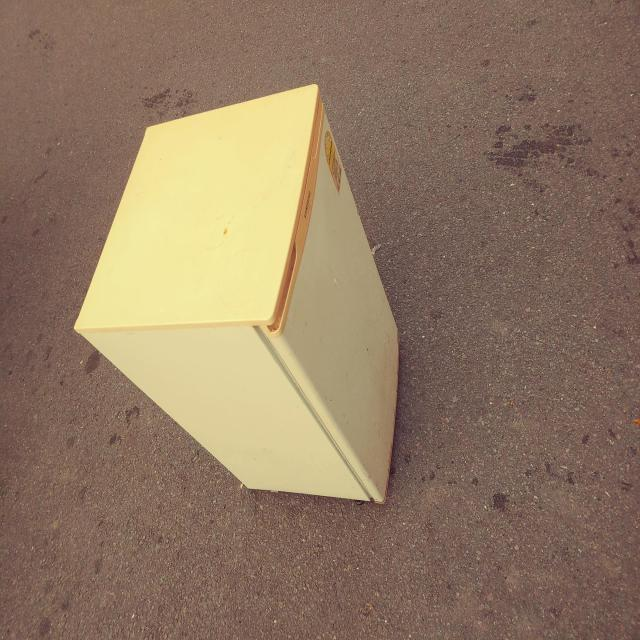refrigerator: (70, 76, 402, 512)
